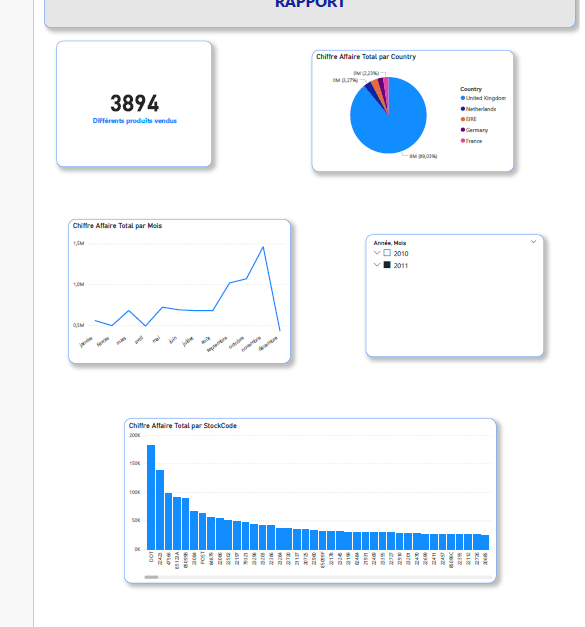

The dashboard page shown, as its layout file describes it:
{"tool":"powerbi","page":{"name":"Raport final","canvas":[1280,2000],"ordinal":2},"visuals":[{"type":"textbox","box":[0,0,1270.4,100.3],"z":0},{"type":"card","fields":{"Values":["Online Retail.Différents produits vendus"]},"box":[29.7,131.4,371.6,301],"z":1},{"type":"pieChart","fields":{"Y":["Online Retail.Chiffre Affaire Total"],"Category":["Online Retail.Country"]},"box":[640.1,152.6,483.3,291.1],"z":2},{"type":"slicer","fields":{"Values":["TableCalcul_Date.Date.Variation.Hiérarchie de dates.Année","TableCalcul_Date.Date.Variation.Hiérarchie de dates.Mois"]},"box":[768.7,593.5,426.8,292.5],"z":3},{"type":"lineChart","fields":{"Y":["Online Retail.Chiffre Affaire Total"],"Category":["TableCalcul_Date.Date.Variation.Hiérarchie de dates.Mois"]},"box":[57.9,556.8,531.3,344.8],"z":4},{"type":"clusteredColumnChart","fields":{"Y":["Online Retail.Chiffre Affaire Total"],"Category":["Online Retail.StockCode"]},"box":[190.8,1033,890.3,394.3],"z":5}]}

Visuals, with their boxes on the page's 1280x2000 design canvas (x1, y1, x2, y2). These are canvas units, not pixel positions in the 585x627 screenshot, which may show the page scaled, cropped or inside an application window:
textbox: box=[0, 0, 1270, 100]
card - Online Retail.Différents produits vendus: box=[30, 131, 401, 432]
pieChart - Online Retail.Chiffre Affaire Total x Online Retail.Country: box=[640, 153, 1123, 444]
slicer - TableCalcul_Date.Date.Variation.Hiérarchie de dates.Année x TableCalcul_Date.Date.Variation.Hiérarchie de dates.Mois: box=[769, 594, 1196, 886]
lineChart - Online Retail.Chiffre Affaire Total x TableCalcul_Date.Date.Variation.Hiérarchie de dates.Mois: box=[58, 557, 589, 902]
clusteredColumnChart - Online Retail.Chiffre Affaire Total x Online Retail.StockCode: box=[191, 1033, 1081, 1427]
